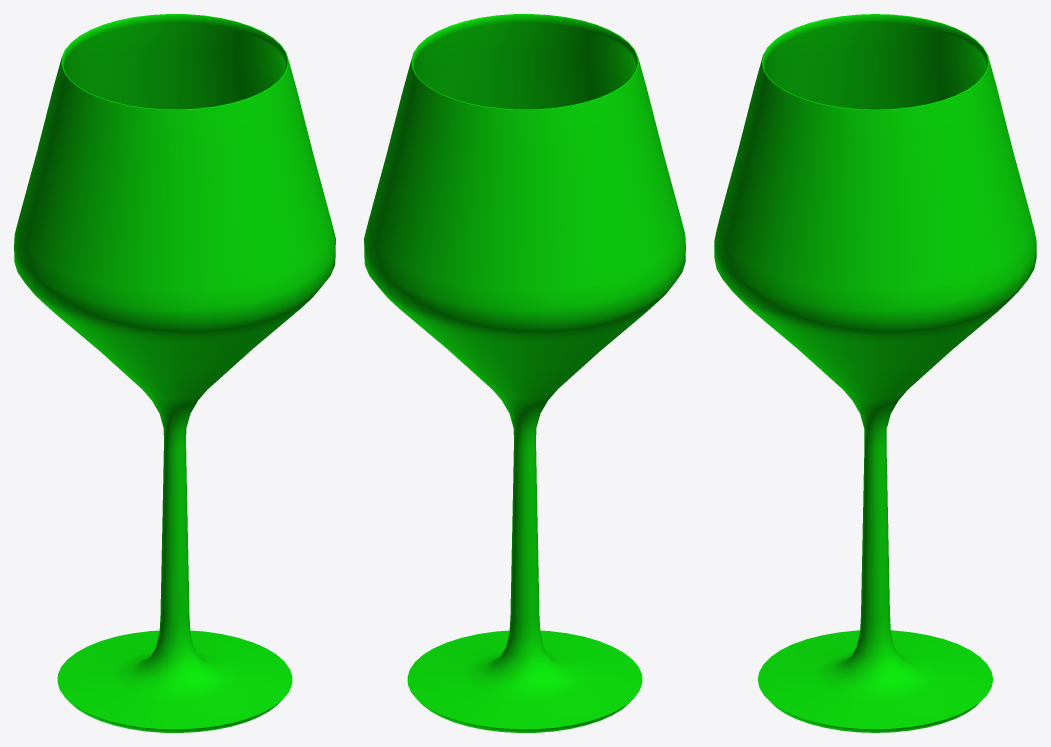
Rendered from Glass7_LOD_1.fbx.
3 views of the same model, side by side, from view 1: azimuth 30°, elevation 25°; view 2: azimuth 150°, elevation 25°; view 3: azimuth 270°, elevation 25° (orthographic).
Visible parts, largest first — view 1: Glass7_LOD_1; view 2: Glass7_LOD_1; view 3: Glass7_LOD_1.
Boxes of the visible parts, x1,y1,x2,y2 form: Glass7_LOD_1: (14, 14, 335, 732); Glass7_LOD_1: (364, 14, 685, 732); Glass7_LOD_1: (714, 14, 1036, 732).
Bounding box in the file's own units: 2.37 × 5.08 × 2.37.
